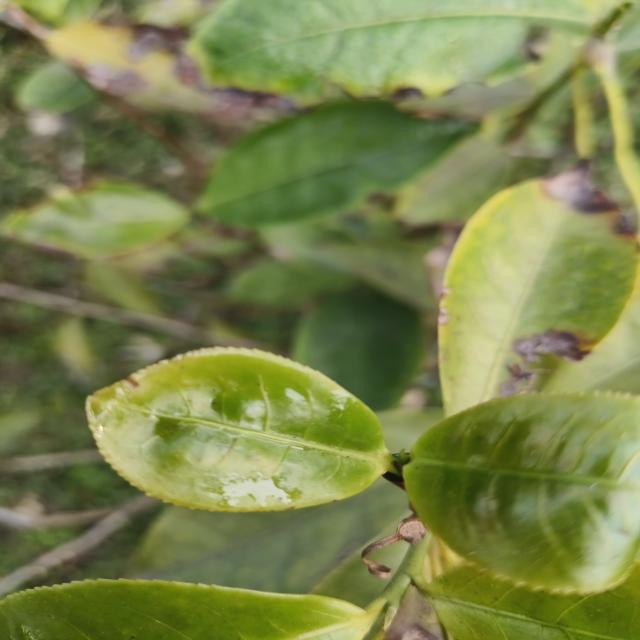Leaf: (86, 348, 392, 512), (438, 166, 638, 415), (404, 391, 640, 593), (189, 0, 615, 103), (197, 101, 477, 227), (129, 479, 406, 594), (0, 579, 374, 640), (422, 565, 640, 640), (292, 286, 423, 410), (43, 21, 213, 112), (0, 183, 189, 260), (394, 134, 513, 226), (16, 61, 95, 113)
